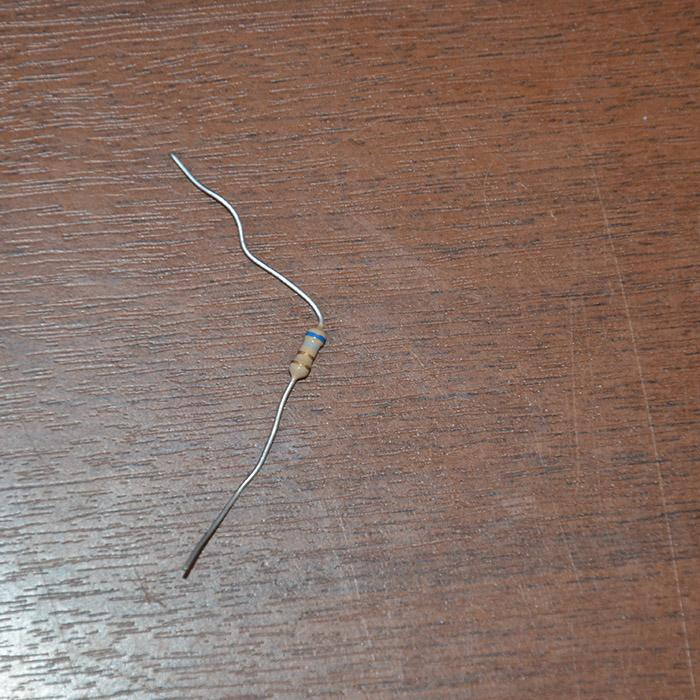resistor: (290, 324, 326, 379)
